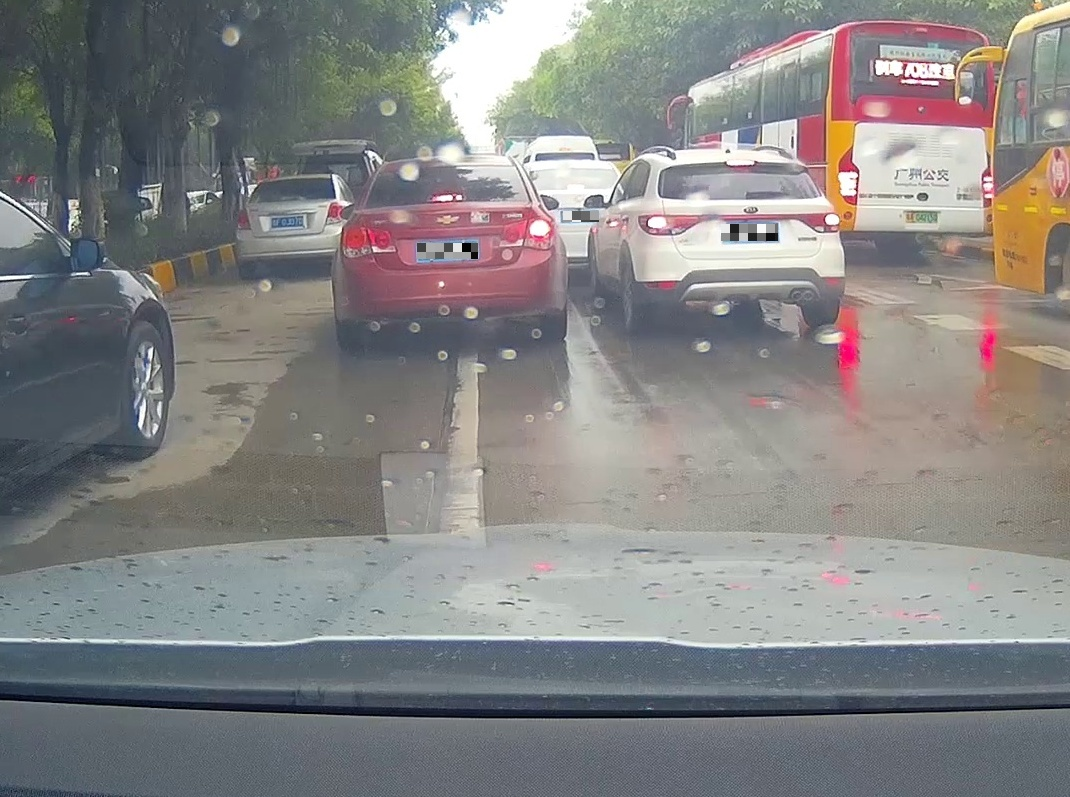L_light: (342, 224, 396, 259), (638, 215, 707, 237)
R_light: (500, 214, 555, 250), (797, 211, 841, 234)
T_light: (430, 192, 463, 201), (727, 161, 755, 166)
day-brake: (336, 157, 562, 347), (636, 153, 845, 334)
plate_1: (417, 243, 478, 259)
plate_2: (563, 211, 599, 222)
plate_3: (721, 224, 778, 241)
